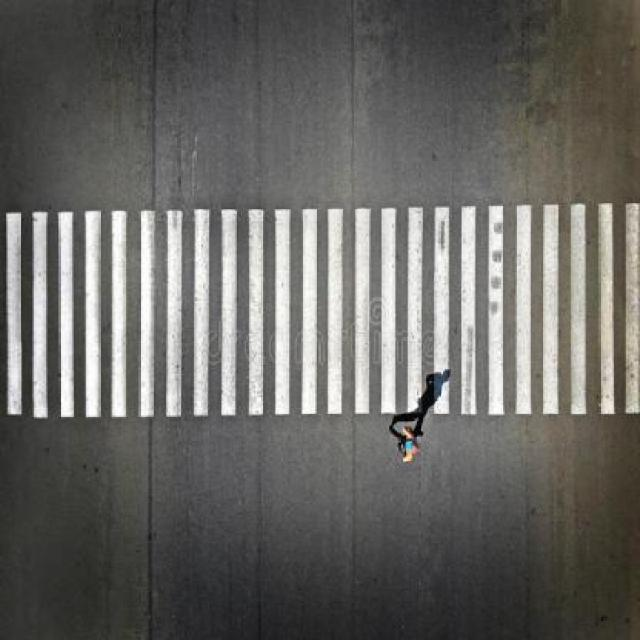intact_crosswalk: (0, 205, 639, 424)
